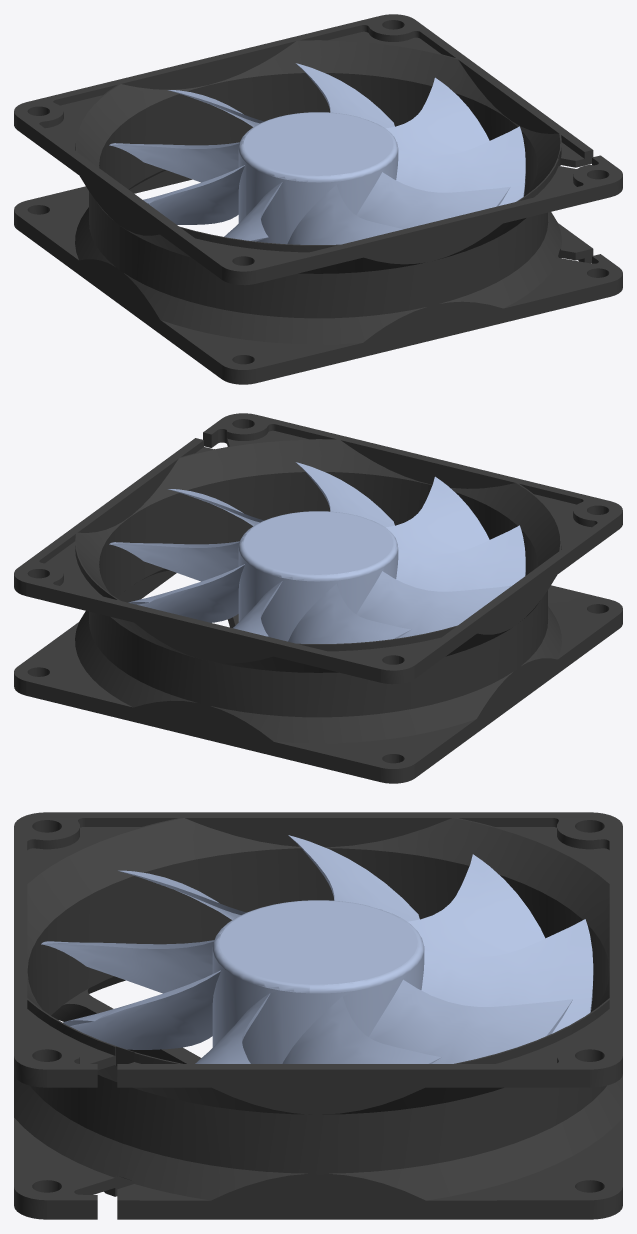
3 views of the same model, one above another, from view 1: azimuth 30°, elevation 25°; view 2: azimuth 150°, elevation 25°; view 3: azimuth 270°, elevation 25° (orthographic). The views are drawn at different scales.
Visible parts, largest first — view 1: mesh_0, mesh_1; view 2: mesh_0, mesh_1; view 3: mesh_0, mesh_1.
Boxes of the visible parts, <box> form: mesh_0: <box>14,14,622,384</box>; mesh_1: <box>109,63,525,244</box>; mesh_0: <box>14,413,622,783</box>; mesh_1: <box>109,462,525,643</box>; mesh_0: <box>14,812,622,1219</box>; mesh_1: <box>41,835,593,1063</box>.
Bounding box in the file's own units: 92 × 25 × 92.
